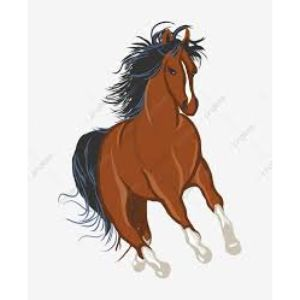horse: (59, 20, 242, 276)
